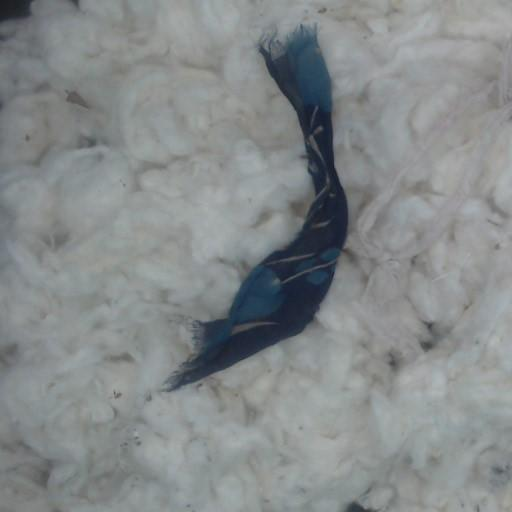cloth: (166, 25, 347, 390)
cotton: (0, 0, 511, 511)
